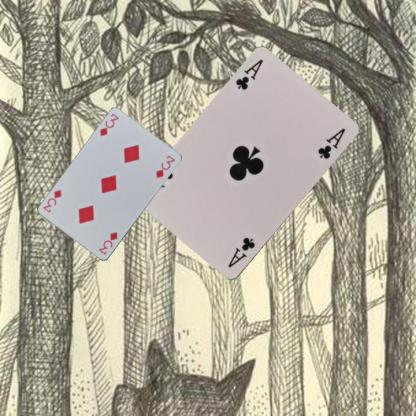3d: (97, 111, 120, 137), (97, 229, 119, 256)
Ac: (224, 235, 256, 269), (233, 57, 264, 92)
